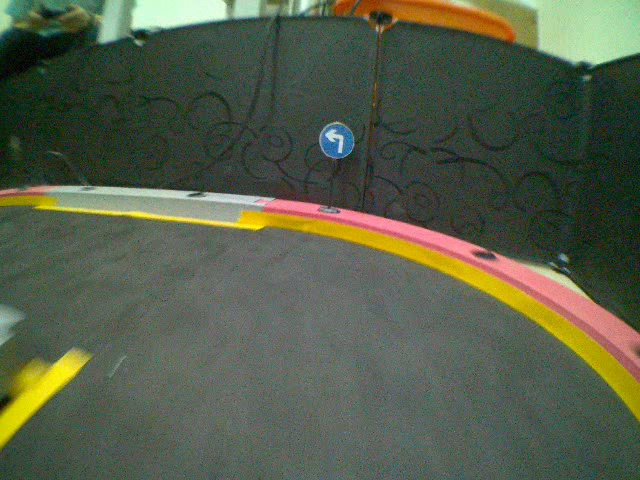turn: (319, 121, 354, 159)
